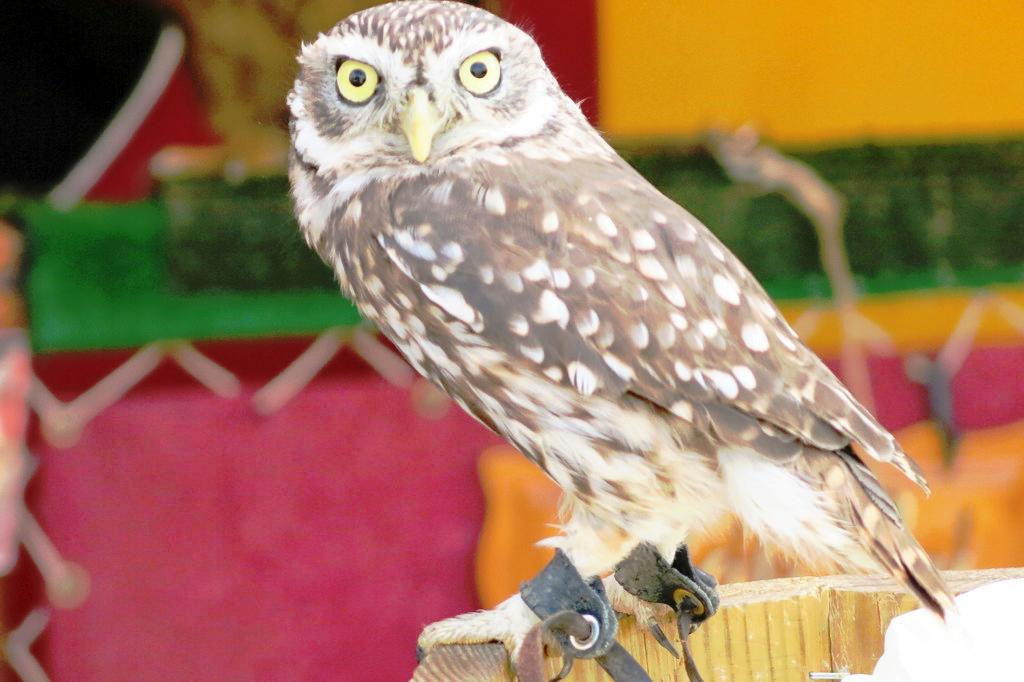Owl: (289, 0, 958, 681)
